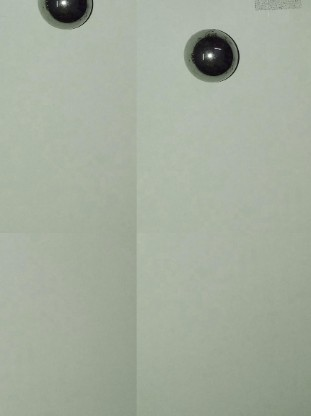ironball: (176, 26, 240, 81), (31, 0, 93, 30)
